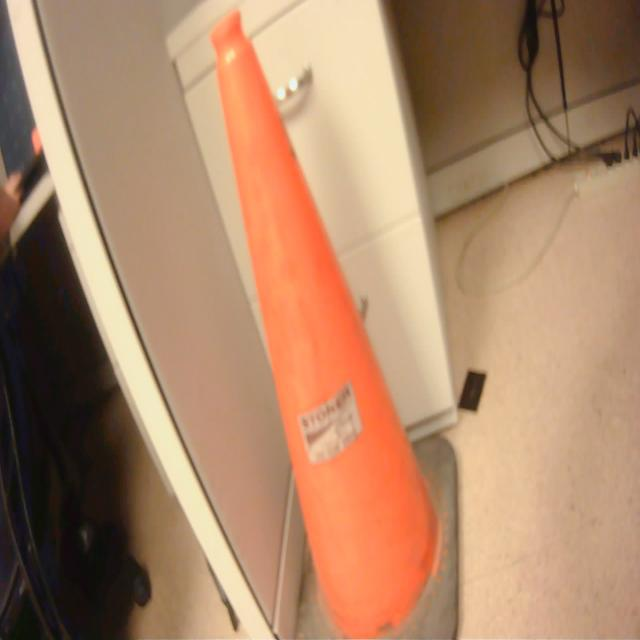traffic cone: (206, 4, 468, 640)
